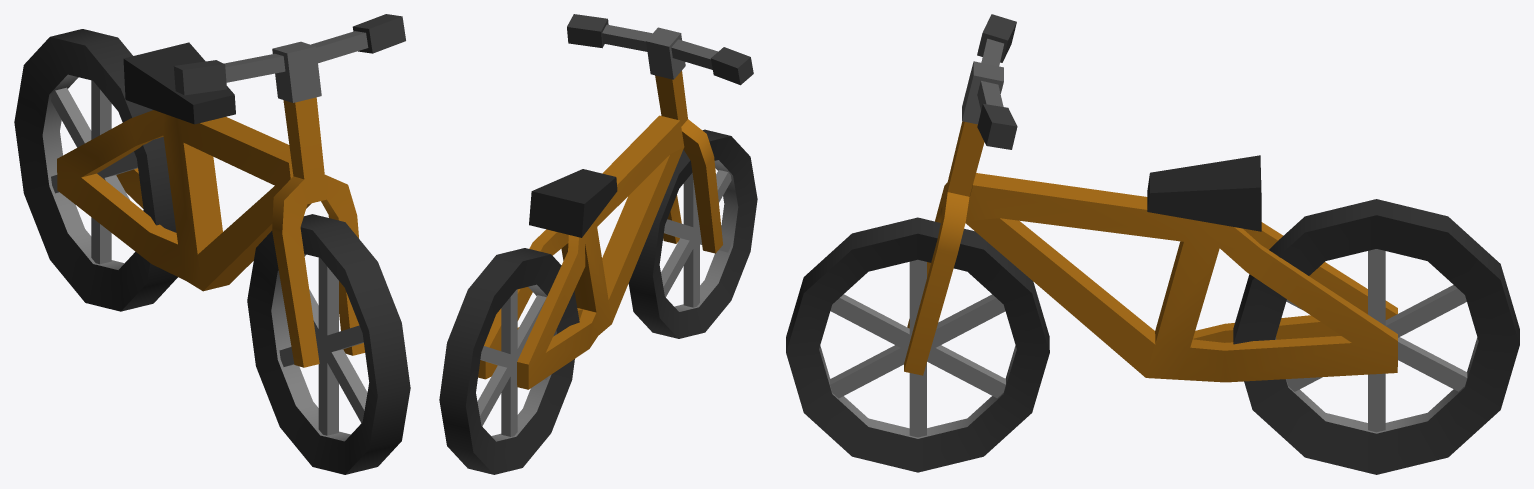
The model's file is bicycle_v1_03.fbx.
3 views of the same model, side by side, from view 1: azimuth 30°, elevation 25°; view 2: azimuth 150°, elevation 25°; view 3: azimuth 270°, elevation 25° (orthographic). The views are drawn at different scales.
Parts seen in each view (by area): view 1: bicycle_v1_03; view 2: bicycle_v1_03; view 3: bicycle_v1_03.
Part boxes in pixels (bbox=[...]): bicycle_v1_03: bbox=[14, 14, 410, 474]; bicycle_v1_03: bbox=[439, 14, 757, 474]; bicycle_v1_03: bbox=[786, 14, 1519, 474].
Size of the model in its own units: 52.87 by 89.88 by 150.
